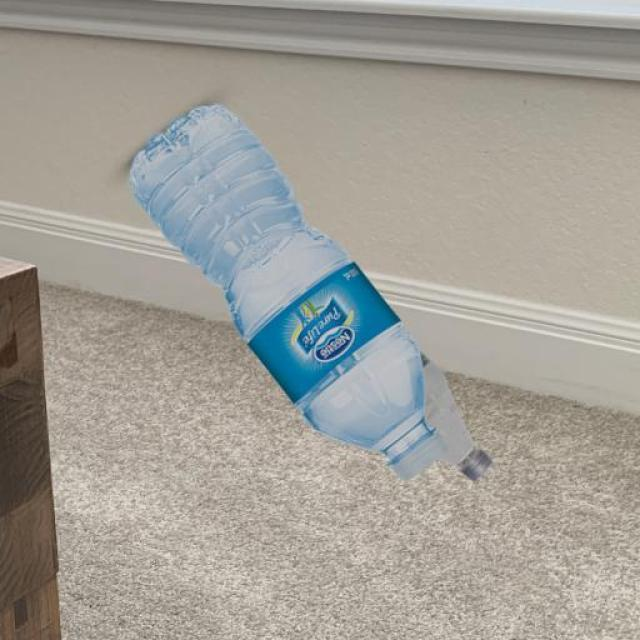bottle: (128, 101, 492, 484)
